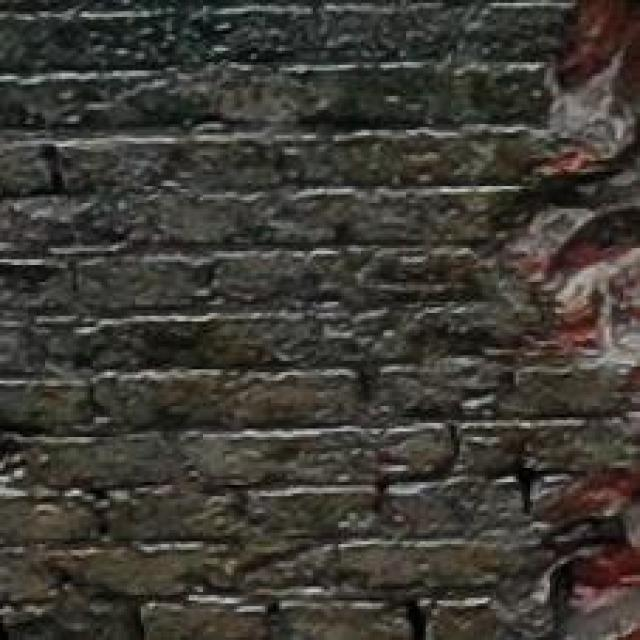Crack: (401, 0, 639, 640)
